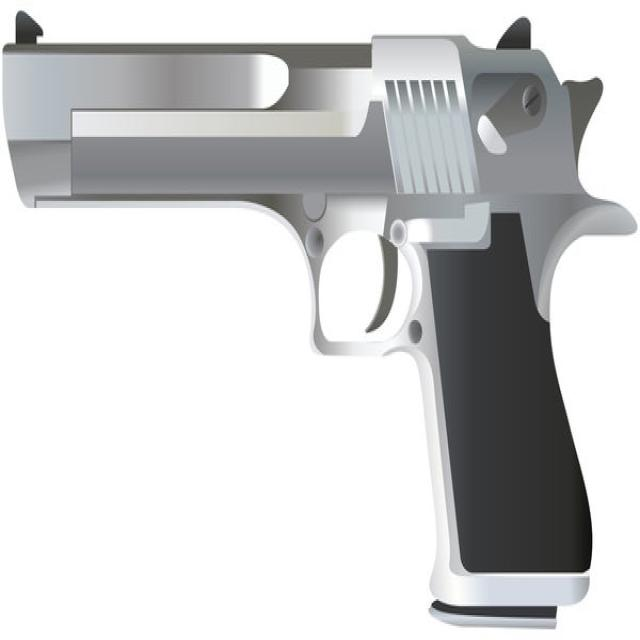handgun: (0, 7, 623, 640)
